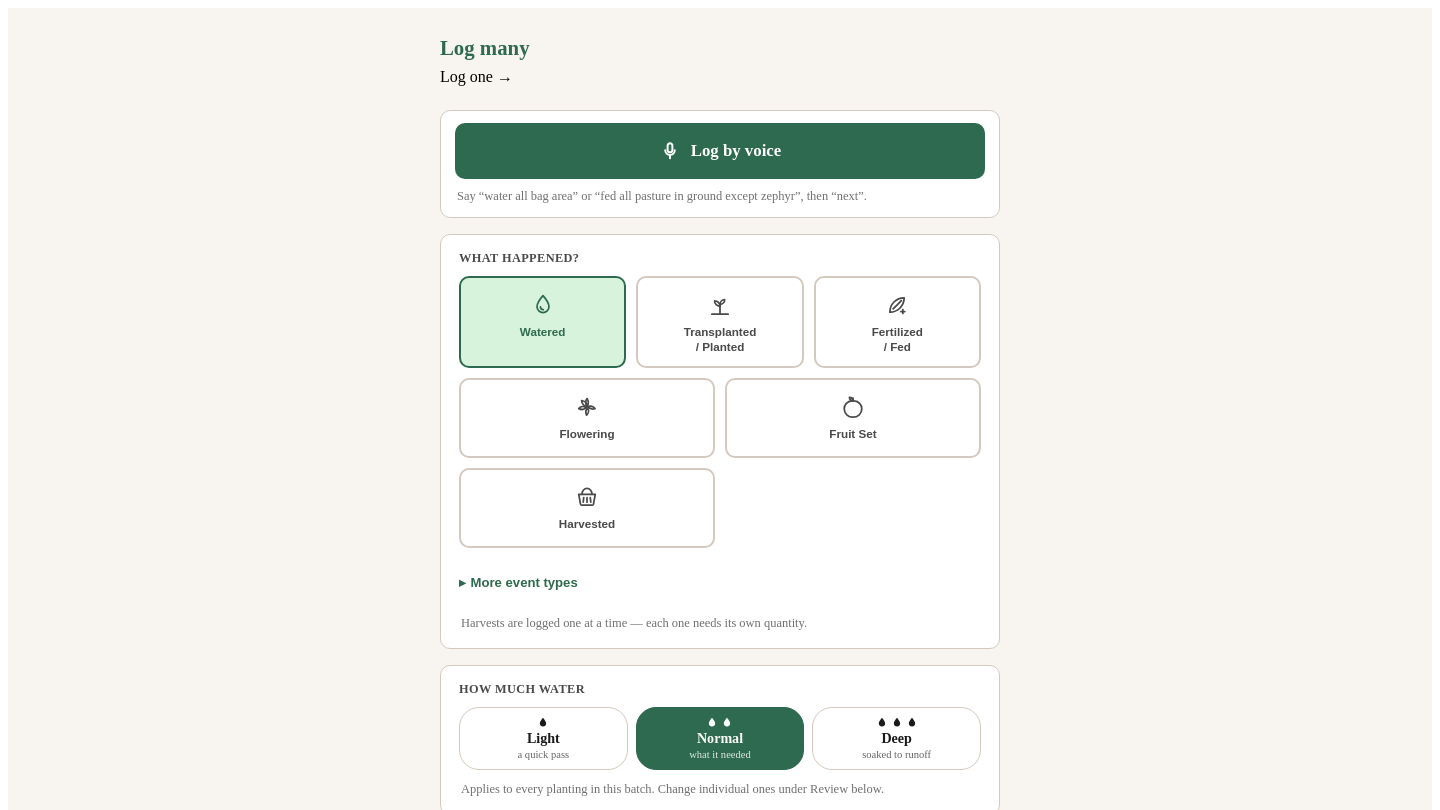
Test: refusals — the whole command, nothing written, no confirm window › ALL OR NOTHING: one name it cannot find refuses the two it could
Step 1. Click the button with test id "lmv-start" → (720,151), box x1=455 y1=123 x2=985 y2=179
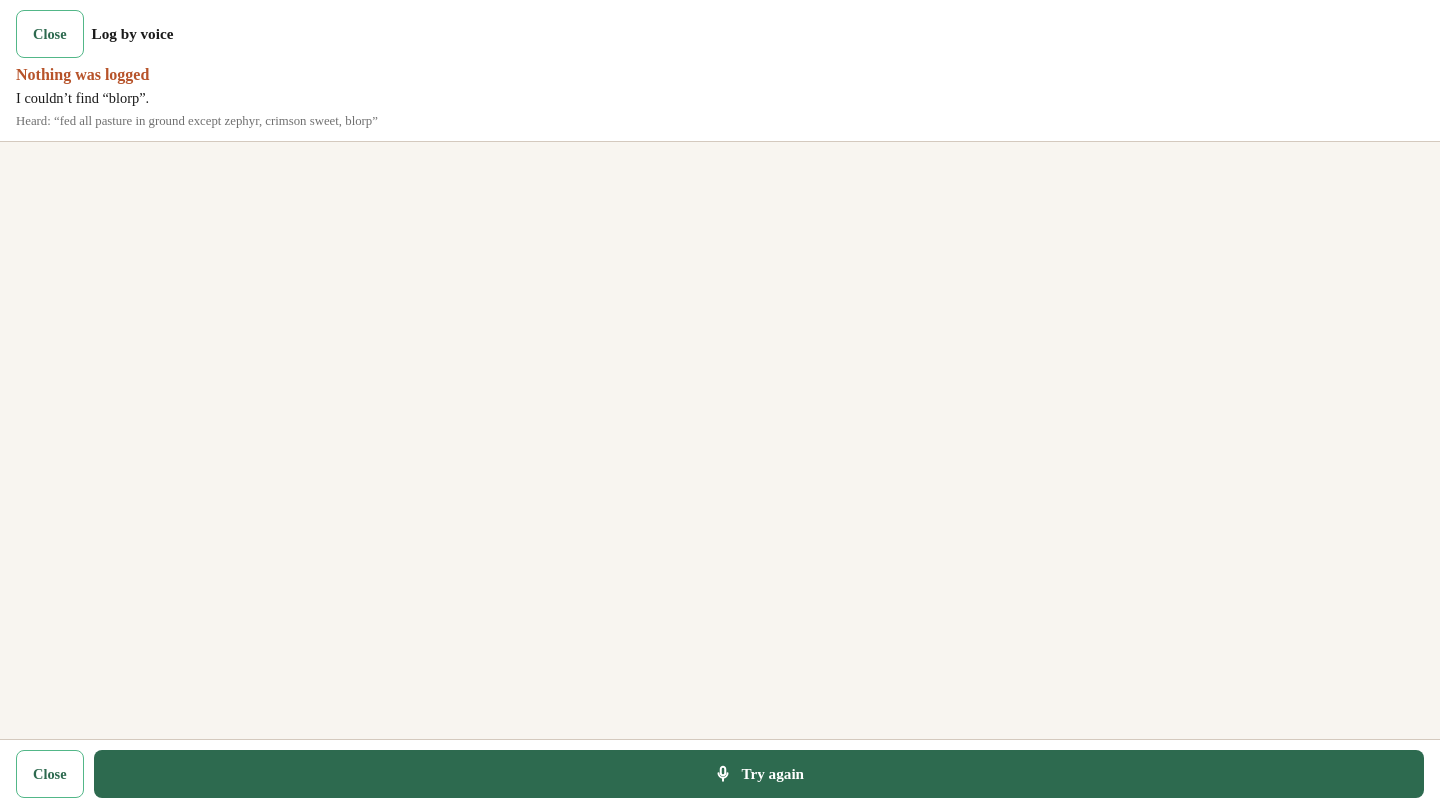
Check: the text with test id "lmv-message" reads "I couldn’t find “blorp”.", box x1=16 y1=90 x2=149 y2=106
